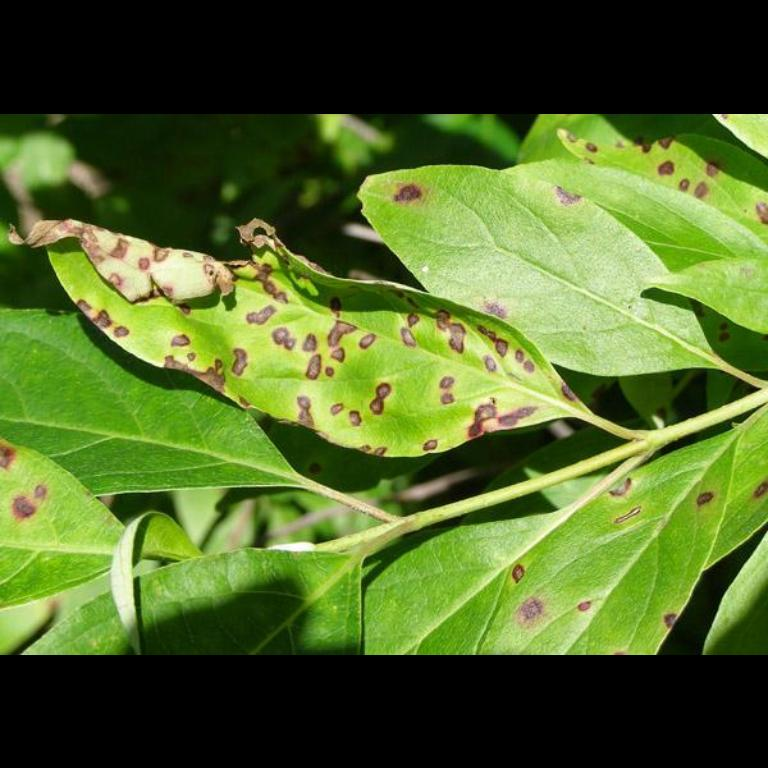blight: (240, 293, 386, 397)
